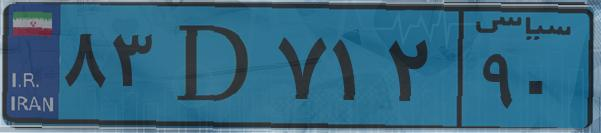0: (525, 38, 570, 115)
1: (330, 28, 385, 110)
2: (385, 28, 445, 110)
3: (110, 28, 158, 98)
7: (270, 28, 330, 110)
8: (57, 26, 110, 100)
9: (475, 38, 525, 113)
D: (158, 12, 270, 120)
